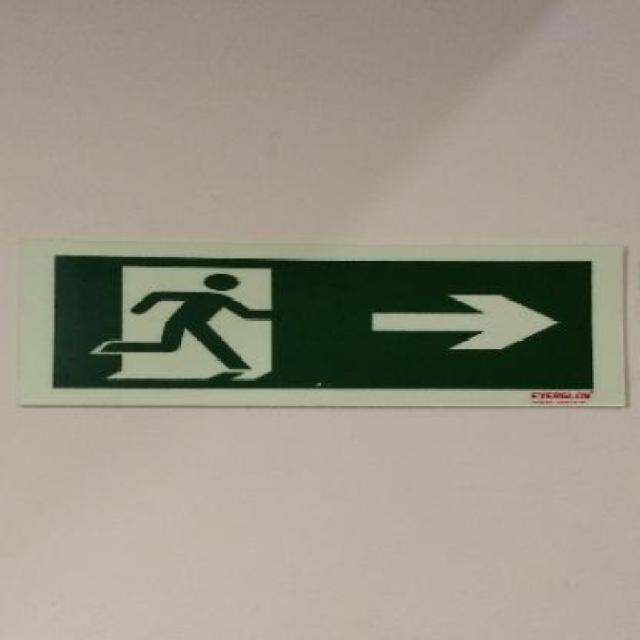exit_sign: (14, 231, 633, 411)
